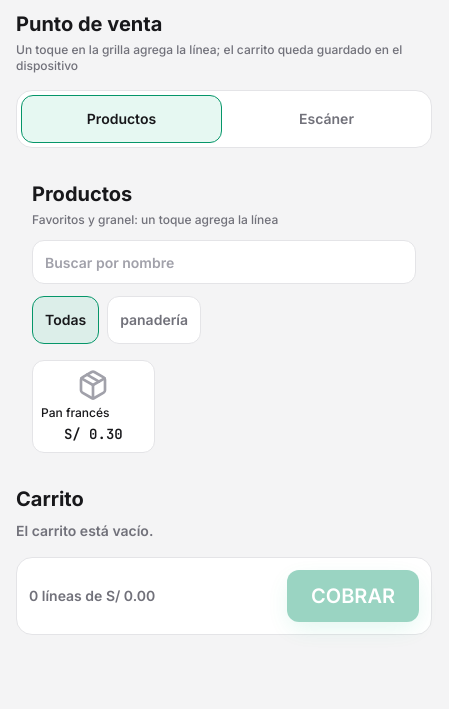
Scenario: CounterSaleScreen › adds the line to the cart when a tile is tapped, persisted before the panel refreshes
Click the button with aria-label "Pan francés, S/ 0.30" at (93, 406), box [32,360,155,453]
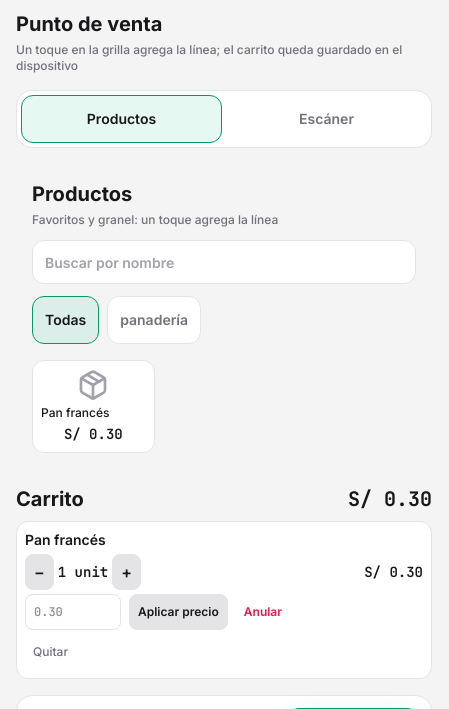
Expected: the element with test id "cart-total" reads "S/ 0.30", [348,486,432,512]
